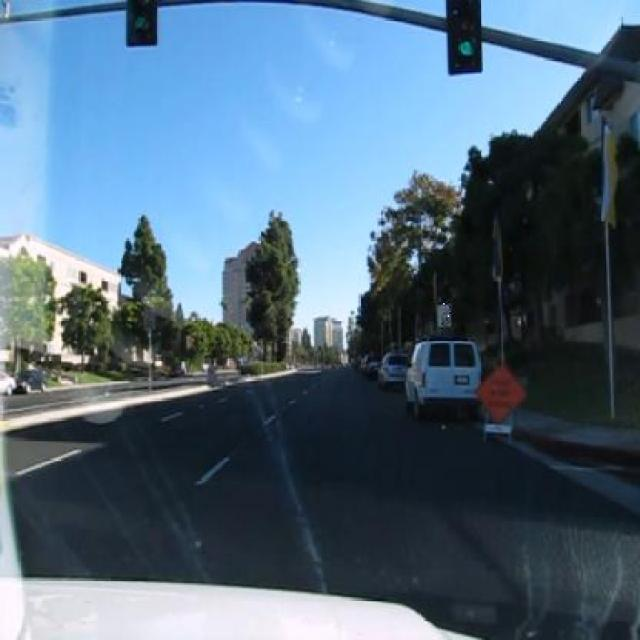speedLimit35: (435, 303, 452, 328)
